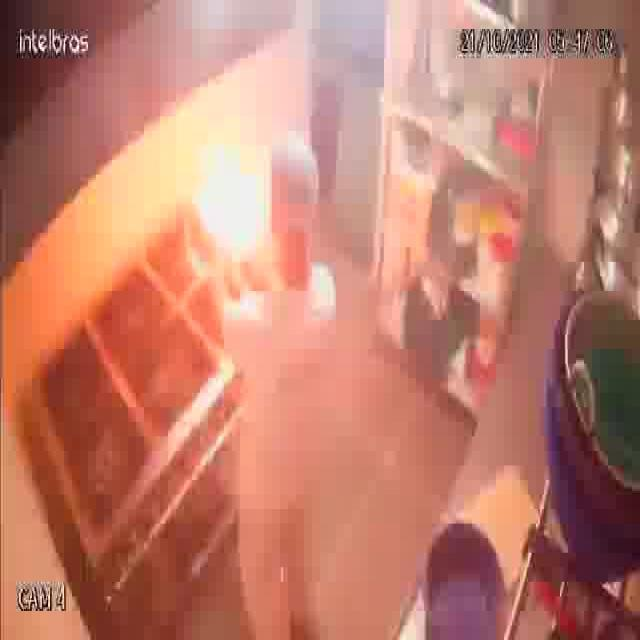Fire: (189, 114, 276, 301)
